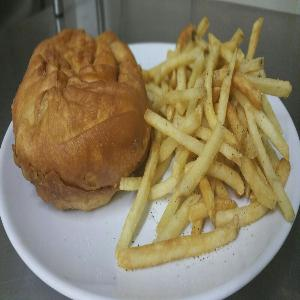cheeseburger: (16, 23, 153, 221)
fries: (151, 26, 295, 263)
